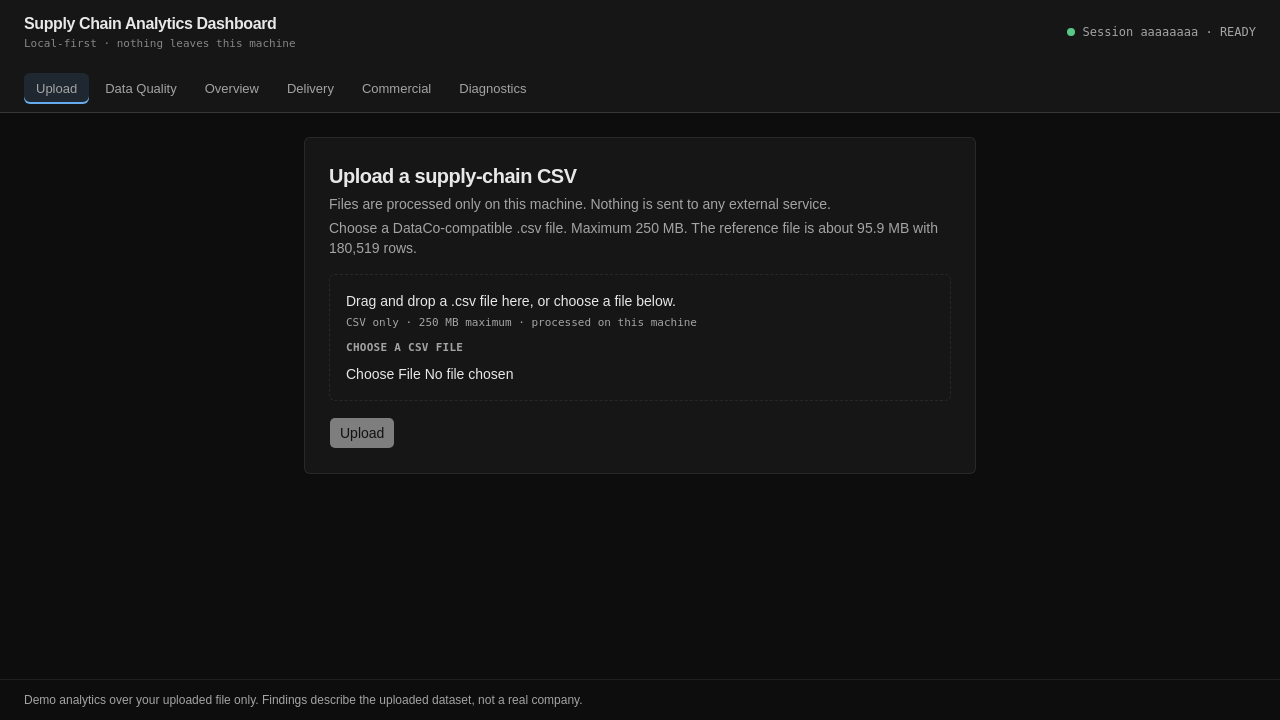
Test: Phase-11 Data Quality view › renders profile, coverage, issues, and cleaning for the session
Click the button "Data Quality" at (141, 88), box [93, 72, 189, 104]
(page scrolled)
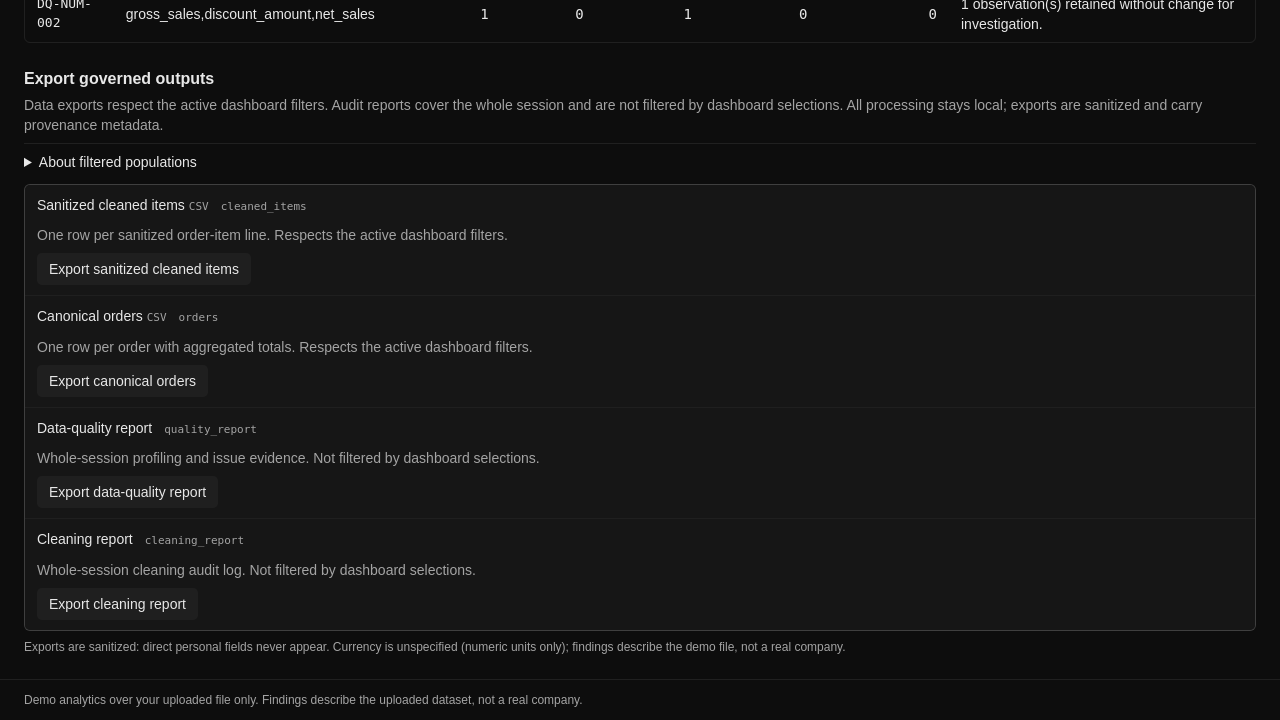
Expected: the text "DQ-NUM-002" is shown 2 times
Expected: the button "Export sanitized cleaned items" is shown, [37, 253, 251, 285]
Expected: the button "Export canonical orders" is shown, [37, 365, 208, 397]
